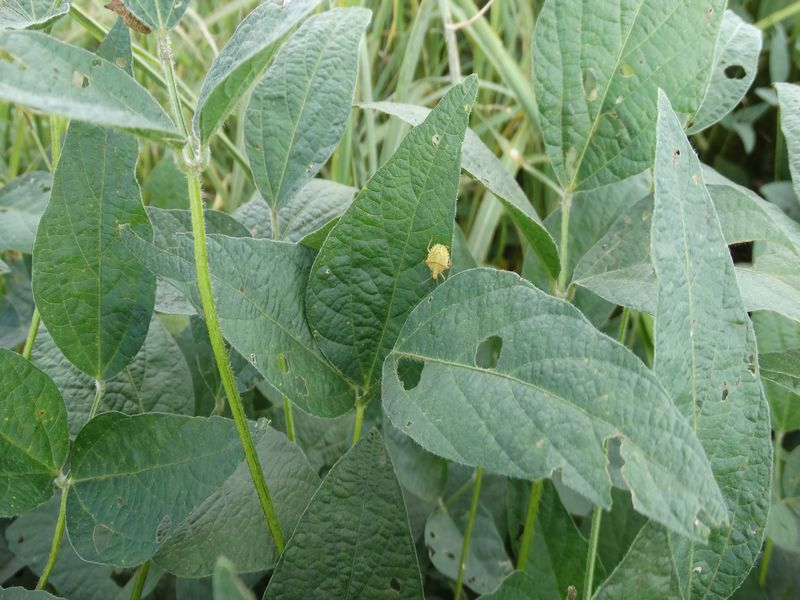Euschistus_heros_ninfa: (417, 232, 460, 291)
